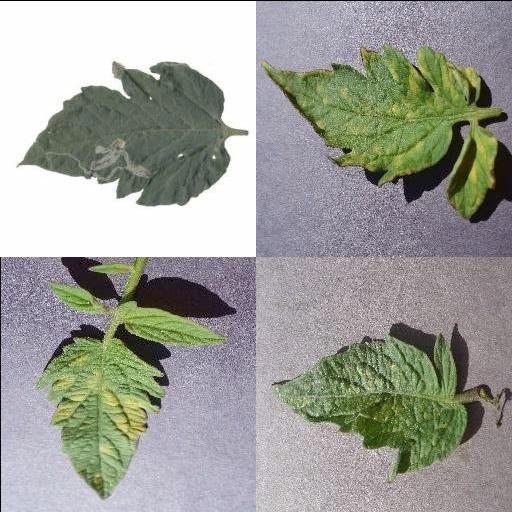Healthy: (122, 301, 224, 345)
Leaf Miner: (17, 58, 231, 205)
Leaf Mold: (260, 40, 482, 180), (34, 335, 166, 501), (446, 123, 498, 220)
Spider Mites: (268, 332, 468, 478)
